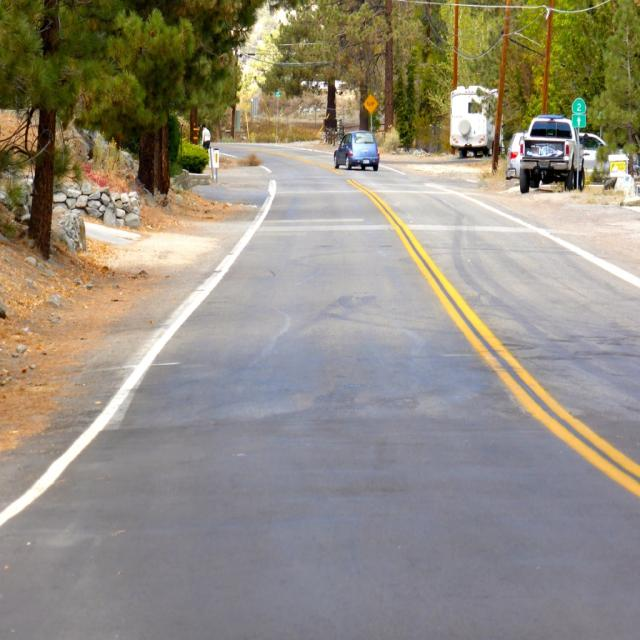car: (333, 129, 378, 169)
